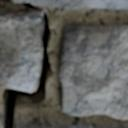brick: (59, 24, 127, 118), (0, 10, 41, 90)
broken_brick: (13, 0, 127, 9), (15, 123, 94, 127)
crack: (0, 1, 52, 127), (0, 0, 13, 2)
